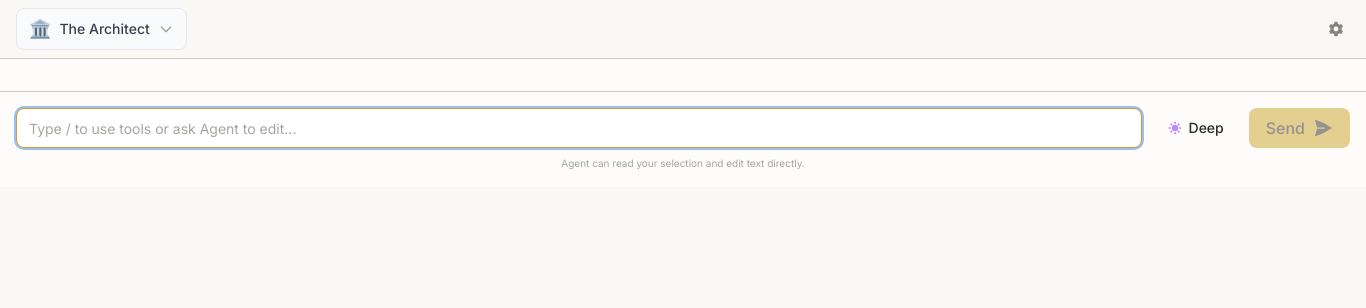
Scenario: ChatInterface › shows a cool-down message when a RateLimitError is thrown
Type "Spam" into the field with placeholder "Type / to use tools or ask Agent to edit...". click: coordinates (579, 128)
box: [16, 108, 1142, 148]
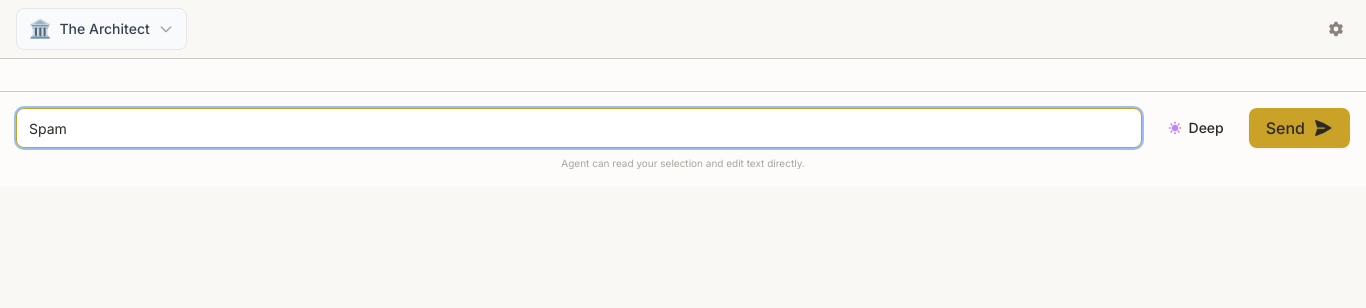
Press Enter in the field with placeholder "Type / to use tools or ask Agent to edit...", box [16, 108, 1142, 148]
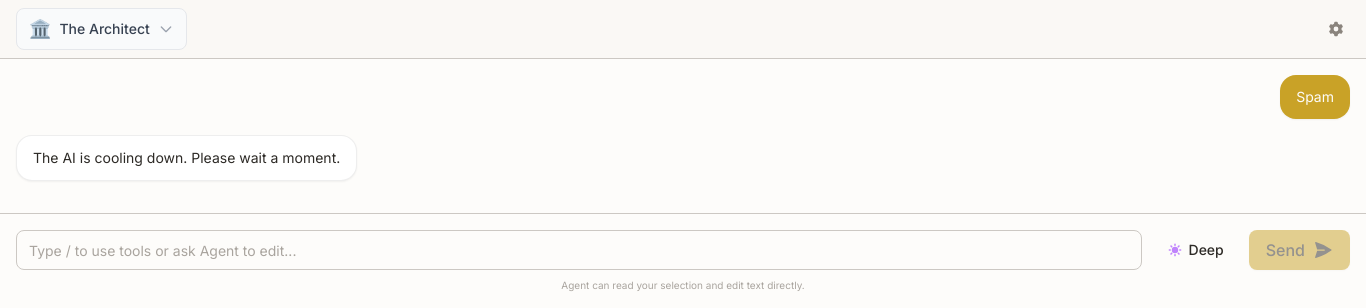
Check: the text "The AI is cooling down. Please wait a moment." is shown, box [16, 135, 357, 181]
